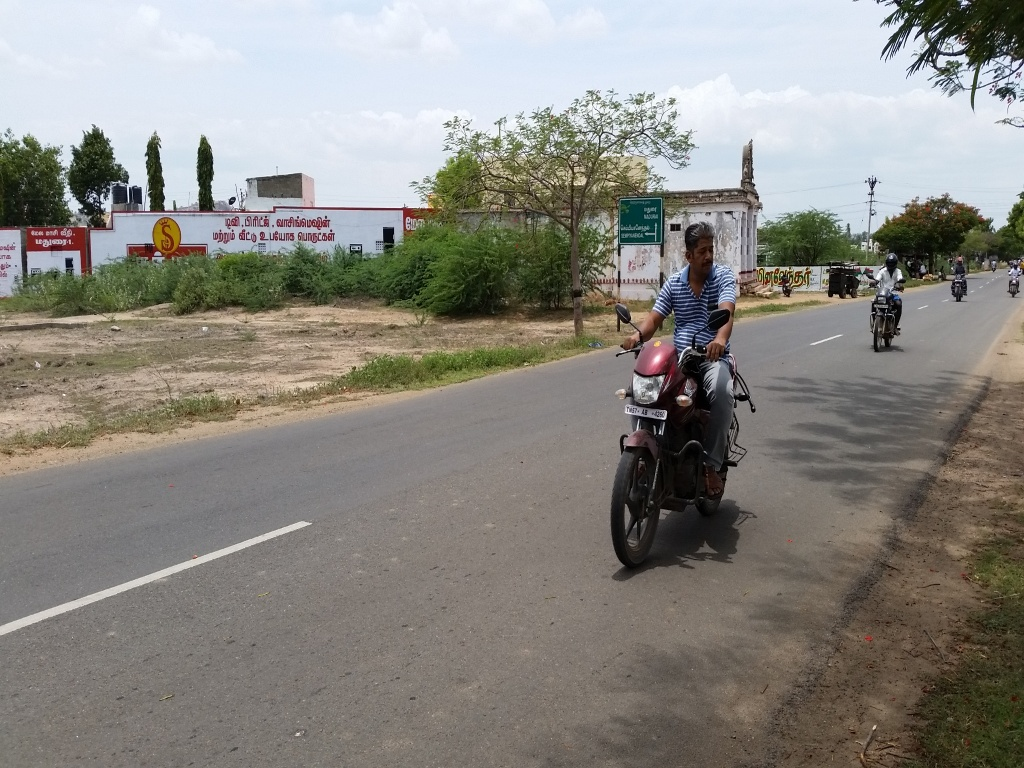biker: (588, 190, 762, 574), (858, 235, 918, 362)
helmet: (881, 250, 902, 275)
nohelmet: (680, 211, 723, 290)
